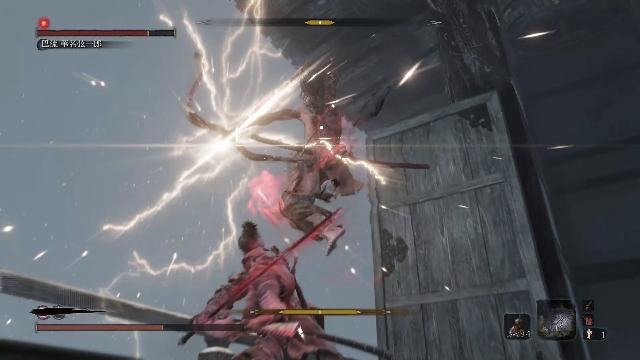sk: (179, 223, 358, 360)
